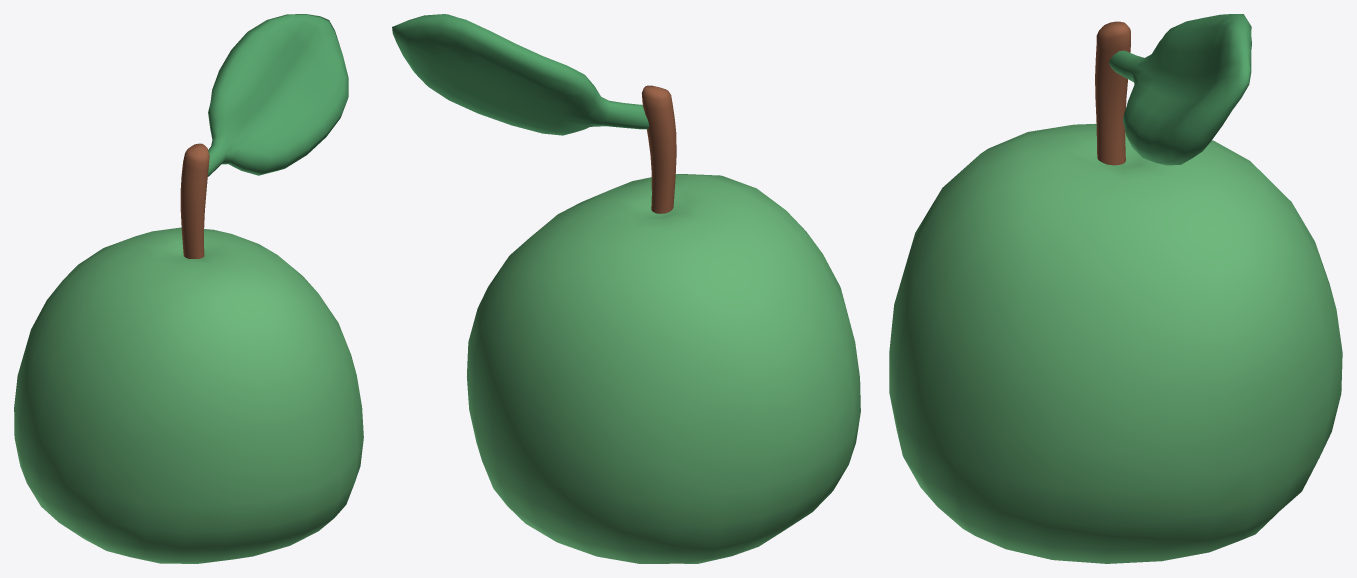
Rendered from Guava_01.dae.
The picture shows the model from 3 angles, left to right: view 1: azimuth 30°, elevation 25°; view 2: azimuth 150°, elevation 25°; view 3: azimuth 270°, elevation 25°; orthographic projection. The views are drawn at different scales.
Parts seen in each view (by area): view 1: Guava_01_LOD0; view 2: Guava_01_LOD0; view 3: Guava_01_LOD0.
Part boxes in pixels (x1,y1,x2,y2): Guava_01_LOD0: [14, 14, 363, 563]; Guava_01_LOD0: [392, 14, 860, 563]; Guava_01_LOD0: [889, 14, 1342, 563].
Size of what is drawn, in the model's own units: 4.94 by 4.31 by 6.25.
